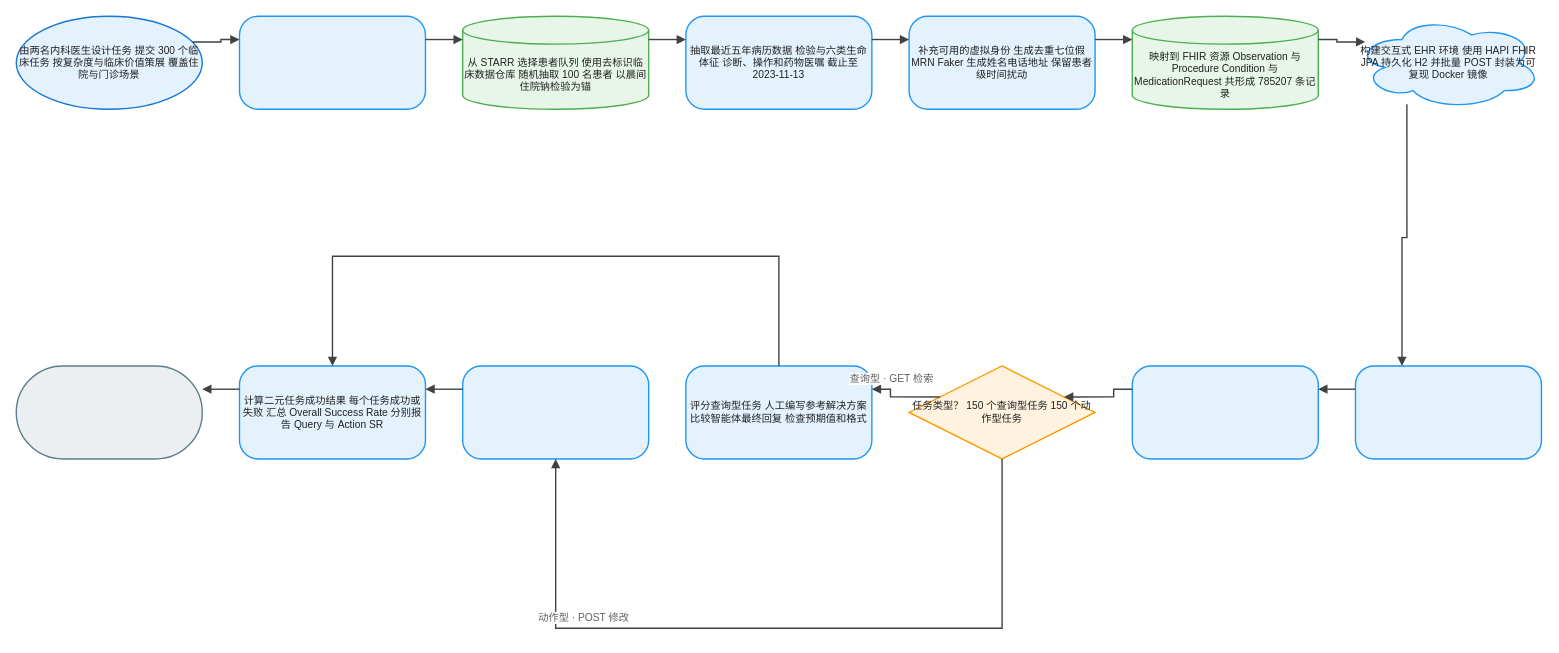
This 1559x653 diagram has some shape labels left out. The centre of each missing label's shape, as x and y in pixels:
"发布 MedAgentBench 结果 比较 12 个代表性模型 按任务类别分析表现差异 保留可复现实验轨迹" belongs at point 109,412.
"执行 Agent 循环 GET：发送请求并返回原始响应 POST：校验 JSON 载荷并返回成功提示 FINISH：保存轨迹用于评分" belongs at point 1225,412.
"接入 AgentBench 框架 提供九个 FHIR 函数 每轮只允许一次函数调用 支持 GET、POST 与 FINISH" belongs at point 1448,412.
"组织临床任务体系 10 个具体任务类别 归并为 7 个广义类别 覆盖检索记录和医嘱动作" belongs at point 332,62.
"评分动作型任务 检查拟提交的 POST 载荷 应用人工编写的规则化健全性检查 判定载荷是否正确" belongs at point 555,412.
